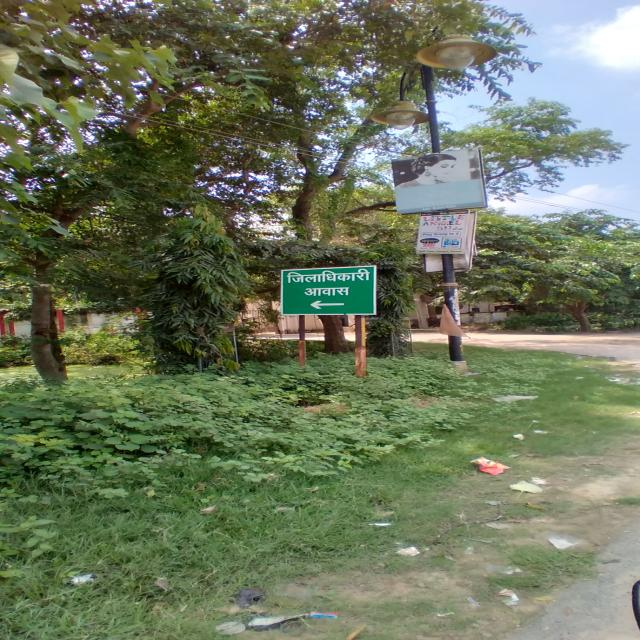GENERAL: (280, 265, 377, 316)
